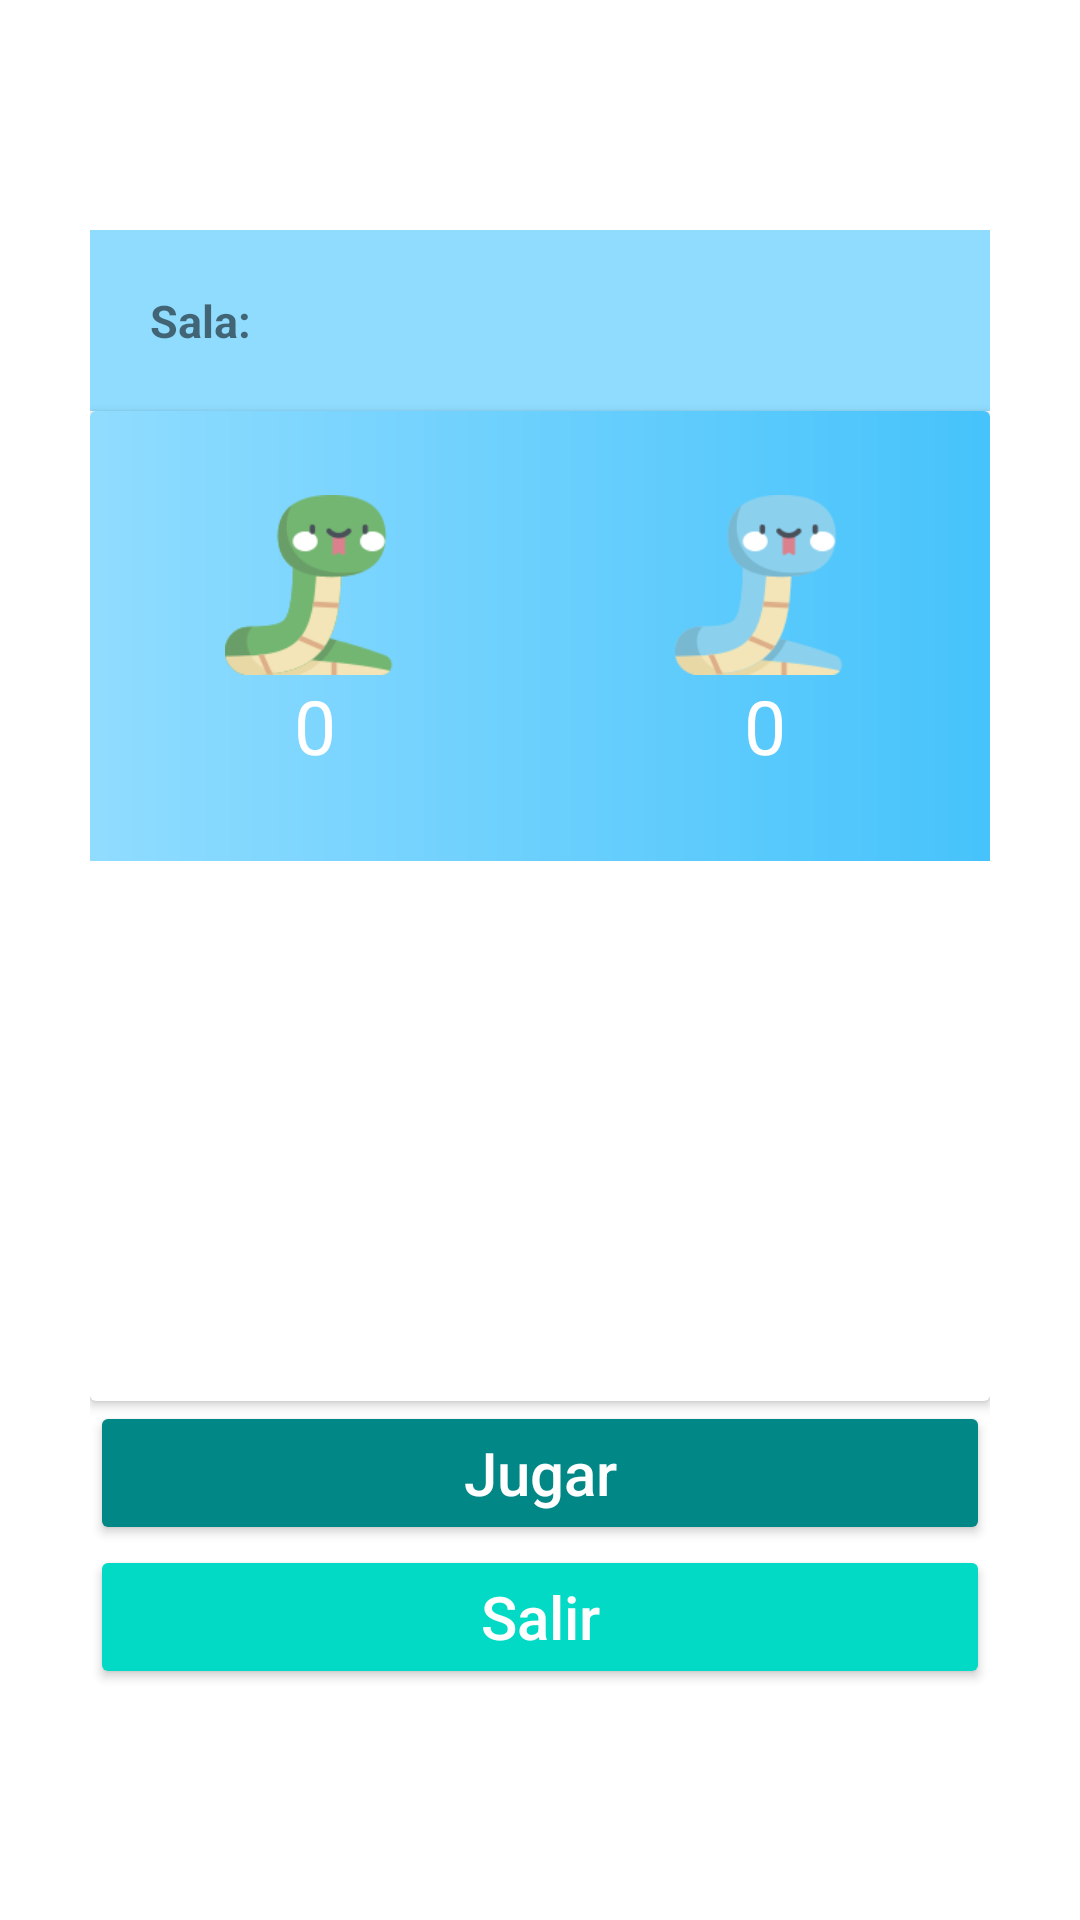

Icon bounding boxes for this 1080×1920 phone screenshot, format (x1, y1, x2, y2):
snake: (225, 495, 393, 675), (675, 495, 842, 675)
